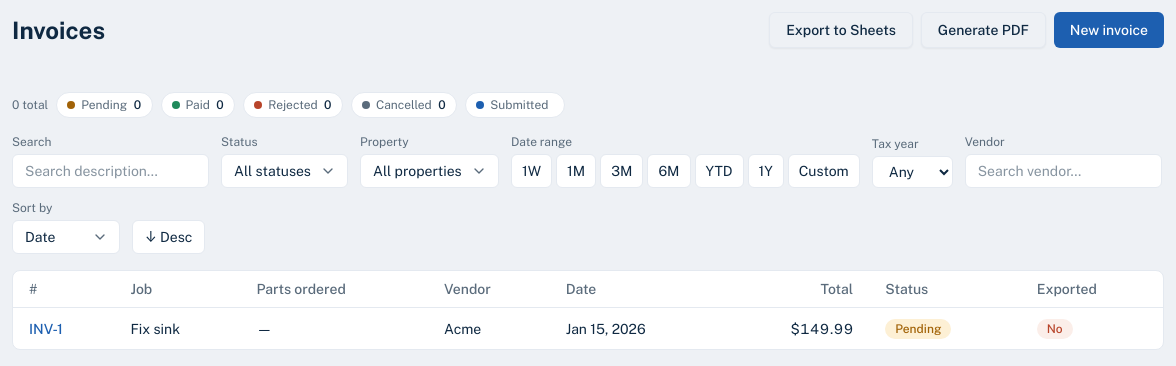
it: InvoiceList — export to Sheets › surfaces the durable count on a 502 partial export
Expected: the link "INV-1" is shown, [29,320,63,336]
Step 1. Click the button "Export to Sheets" → (841, 30), box [769,12,913,48]
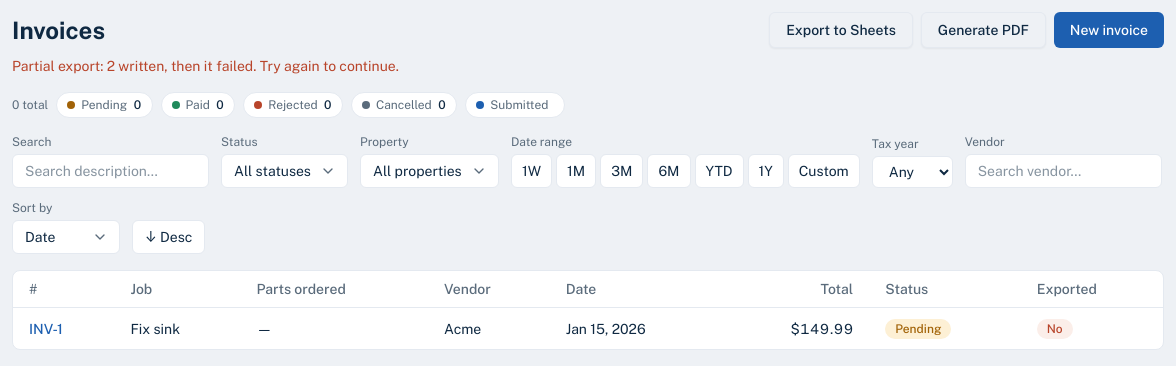
Now the text "Partial export: 2 written, then it failed. Try again to continue." is shown, box [12,58,399,74]
